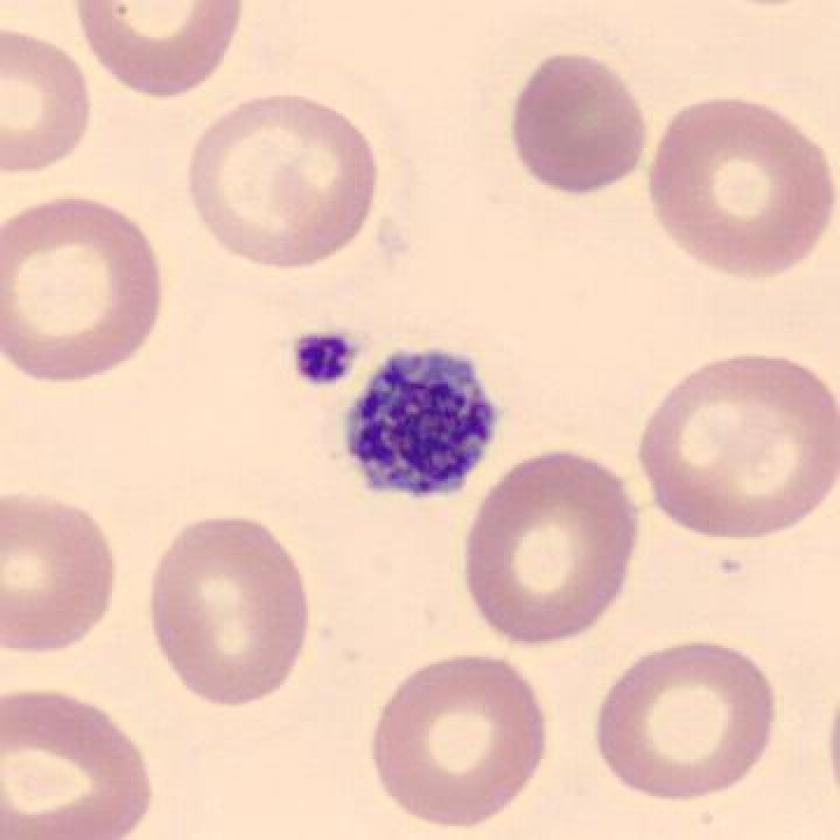platelets: (337, 339, 512, 510), (286, 321, 370, 395)
